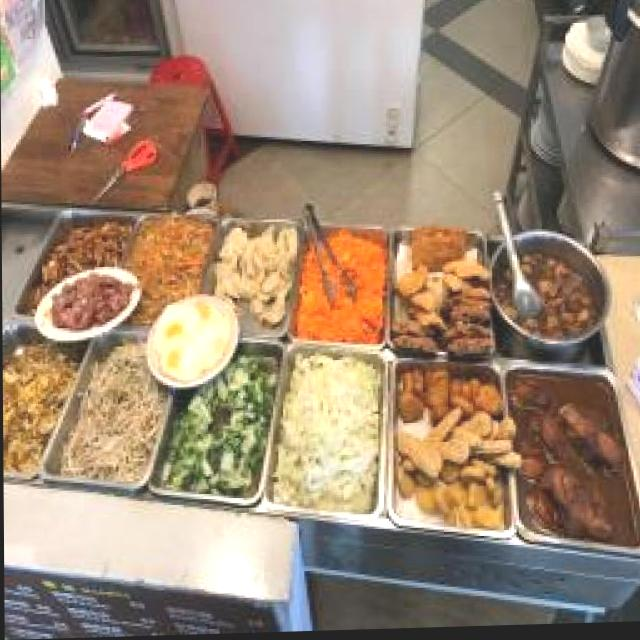carrot_eggs: (306, 236, 385, 341)
chicken_nuggets: (406, 471, 509, 529)
chinese_cabbage: (282, 361, 376, 508)
chinese_sausage: (47, 277, 130, 329)
fried_dumplings: (223, 228, 292, 300)
fried_eggs: (152, 302, 230, 382)
mung_bean_sprouts: (87, 349, 148, 478)
